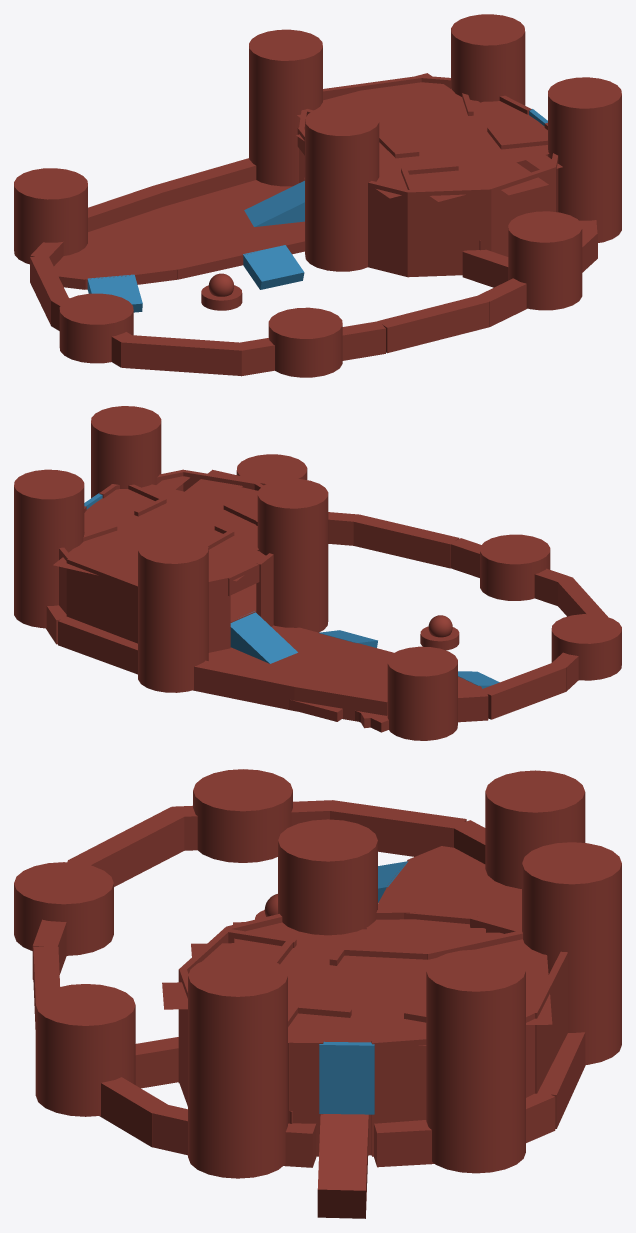
File: env01.fbx
The picture shows the model from 3 angles, top to bottom: view 1: azimuth 30°, elevation 25°; view 2: azimuth 150°, elevation 25°; view 3: azimuth 270°, elevation 25°; orthographic projection. The views are drawn at different scales.
Parts seen in each view (by area): view 1: Cylinder__6_, Cylinder__5_, Cylinder__3_, Cube__4__1, Plane, Cube__1__1, Cylinder__4_, Cylinder__7_, Cylinder__2_, Cylinder, Cylinder__1_, Cube__16__1 (+25 smaller); view 2: Cylinder__3_, Cylinder__6_, Cylinder__7_, Plane, Cube__4__1, Cylinder__2_, Cylinder__5_, Cube__7__1, Cylinder, Cylinder__1_, Cube__13__1, Cube__5__3 (+25 smaller); view 3: Cylinder__5_, Cylinder__7_, Cylinder__3_, Plane, Cylinder__4_, Cylinder__6_, Cylinder__2_, Cylinder__1_, Cylinder, Cube__21_, Cube__5__1, Cube__16__1 (+31 smaller).
Part boxes in pixels (bbox=[...]): Cylinder__6_: bbox=[305, 105, 379, 271]; Cylinder__5_: bbox=[548, 77, 621, 242]; Cylinder__3_: bbox=[249, 29, 322, 186]; Cube__4__1: bbox=[129, 180, 304, 279]; Plane: bbox=[370, 88, 548, 188]; Cube__1__1: bbox=[407, 187, 491, 277]; Cylinder__4_: bbox=[508, 211, 582, 310]; Cylinder__7_: bbox=[451, 14, 525, 105]; Cylinder__2_: bbox=[14, 168, 87, 264]; Cylinder: bbox=[268, 307, 342, 377]; Cylinder__1_: bbox=[59, 293, 133, 363]; Cube__16__1: bbox=[122, 335, 244, 375]; Cylinder__3_: bbox=[138, 534, 208, 692]; Cylinder__6_: bbox=[257, 479, 328, 632]; Cylinder__7_: bbox=[14, 469, 84, 628]; Plane: bbox=[72, 485, 258, 578]; Cube__4__1: bbox=[208, 625, 393, 721]; Cylinder__2_: bbox=[387, 646, 457, 740]; Cylinder__5_: bbox=[91, 406, 161, 498]; Cube__7__1: bbox=[66, 557, 137, 643]; Cylinder: bbox=[480, 534, 550, 600]; Cylinder__1_: bbox=[551, 614, 621, 680]; Cube__13__1: bbox=[351, 514, 459, 568]; Cube__5__3: bbox=[193, 660, 301, 710]; Cylinder__5_: bbox=[188, 954, 287, 1178]; Cylinder__7_: bbox=[426, 949, 525, 1173]; Cylinder__3_: bbox=[522, 842, 621, 1064]; Plane: bbox=[244, 928, 486, 1032]; Cylinder__4_: bbox=[35, 984, 135, 1116]; Cylinder__6_: bbox=[278, 819, 377, 935]; Cylinder__2_: bbox=[485, 770, 585, 888]; Cylinder__1_: bbox=[193, 769, 292, 862]; Cylinder: bbox=[14, 862, 113, 955]; Cube__21_: bbox=[317, 1114, 368, 1218]; Cube__5__1: bbox=[371, 1036, 426, 1156]; Cube__16__1: bbox=[69, 807, 189, 886].
Size of the model in its own units: 23425 by 6572 by 16258.
